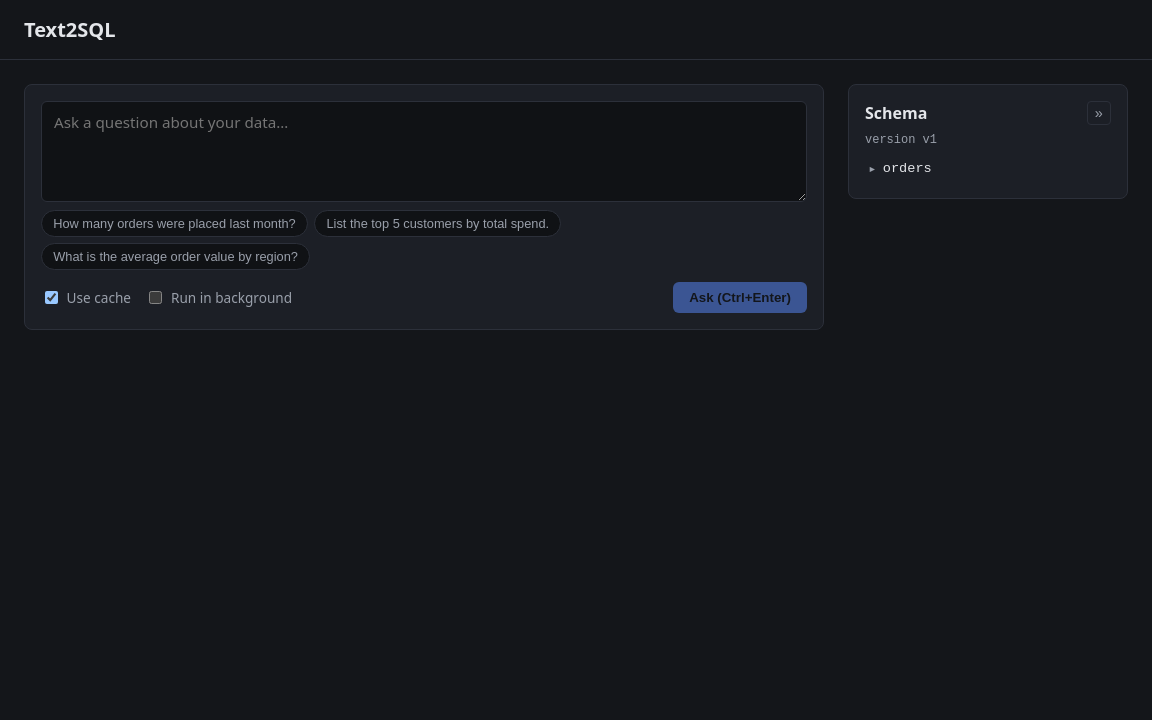
Test case: App › renders the cache badge for cache_status=miss
Type "anything" into the text box with placeholder "Ask a question about your data…".
click(424, 152); type("anything")  # box [41,101,807,202]
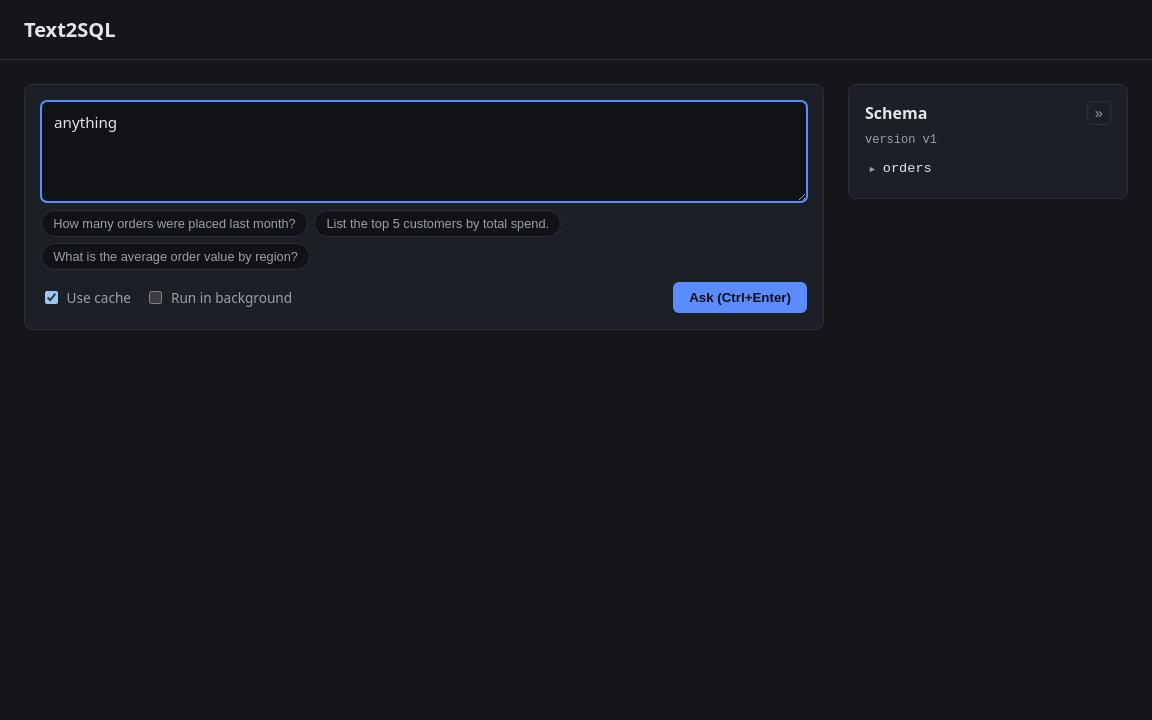
Click the button "Ask (Ctrl+Enter)".
click(740, 297)  # box [673,282,807,313]
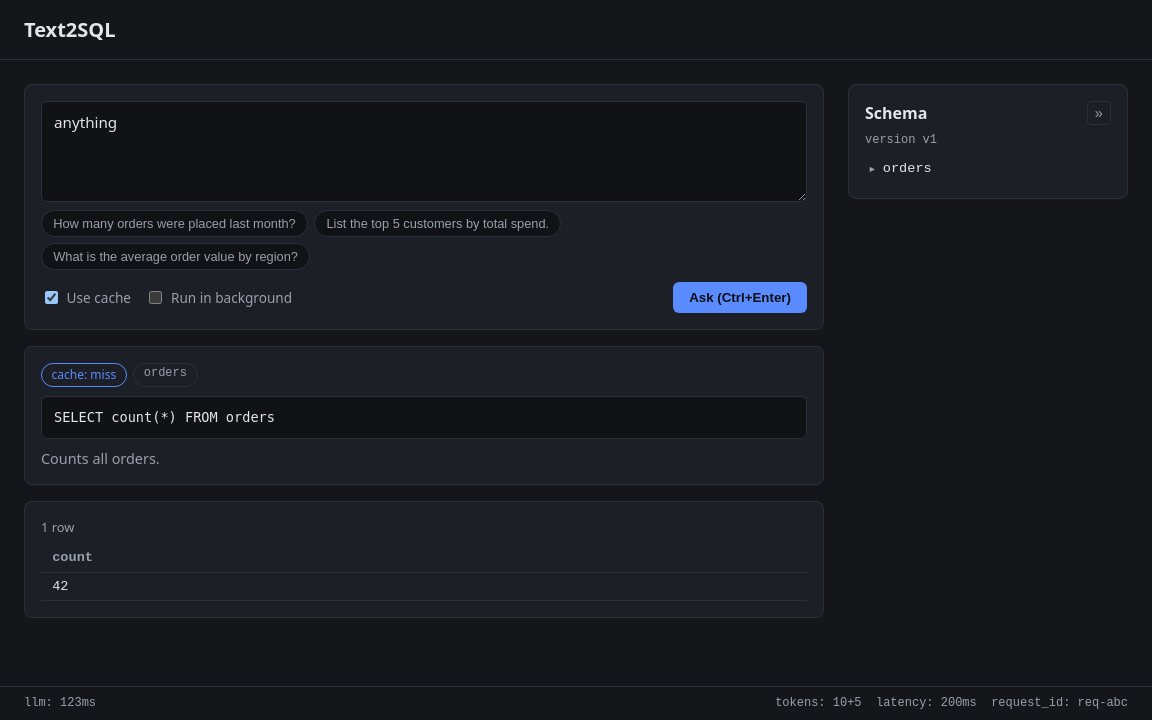
Expected: the text "cache: miss" is shown, [41,363,127,387]
